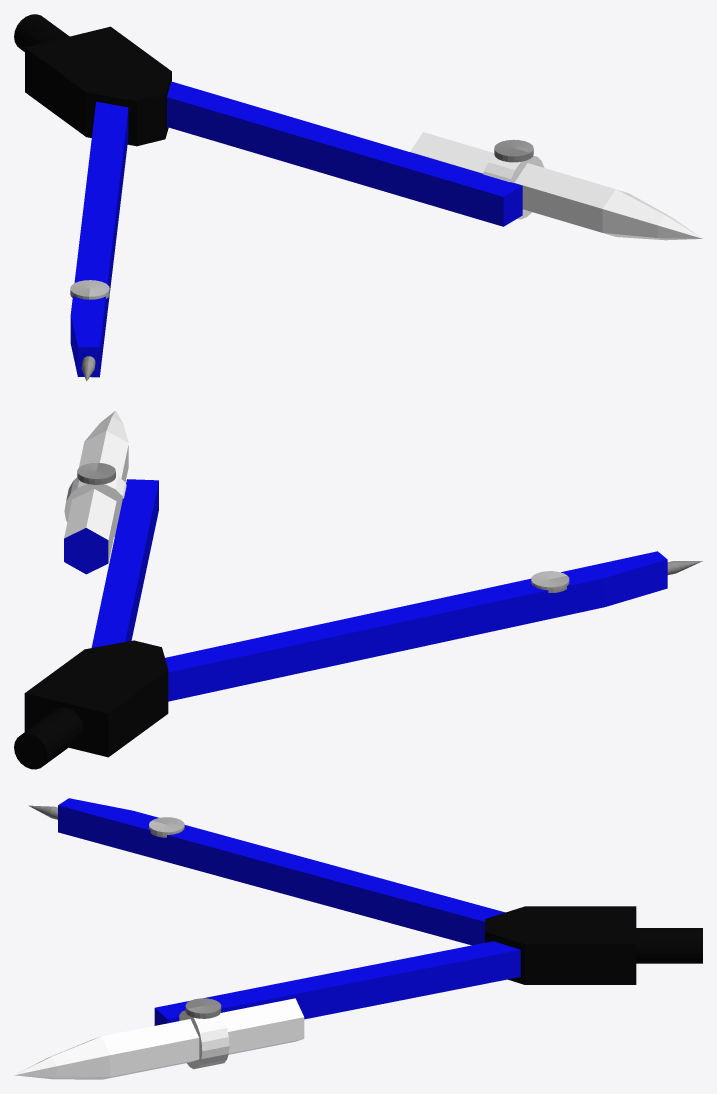
The model's file is stationery_04_open.glb.
The picture shows the model from 3 angles, top to bottom: view 1: azimuth 30°, elevation 25°; view 2: azimuth 150°, elevation 25°; view 3: azimuth 270°, elevation 25°; orthographic projection. The views are drawn at different scales.
Visible parts, largest first — view 1: obj3; view 2: obj3; view 3: obj3.
Part boxes in pixels (<box>): obj3: <box>14,14,702,381</box>; obj3: <box>14,410,702,769</box>; obj3: <box>14,798,702,1079</box>.
Size of the model in its own units: 10.65 by 1.09 by 11.5.
1 material, 1 textured.
